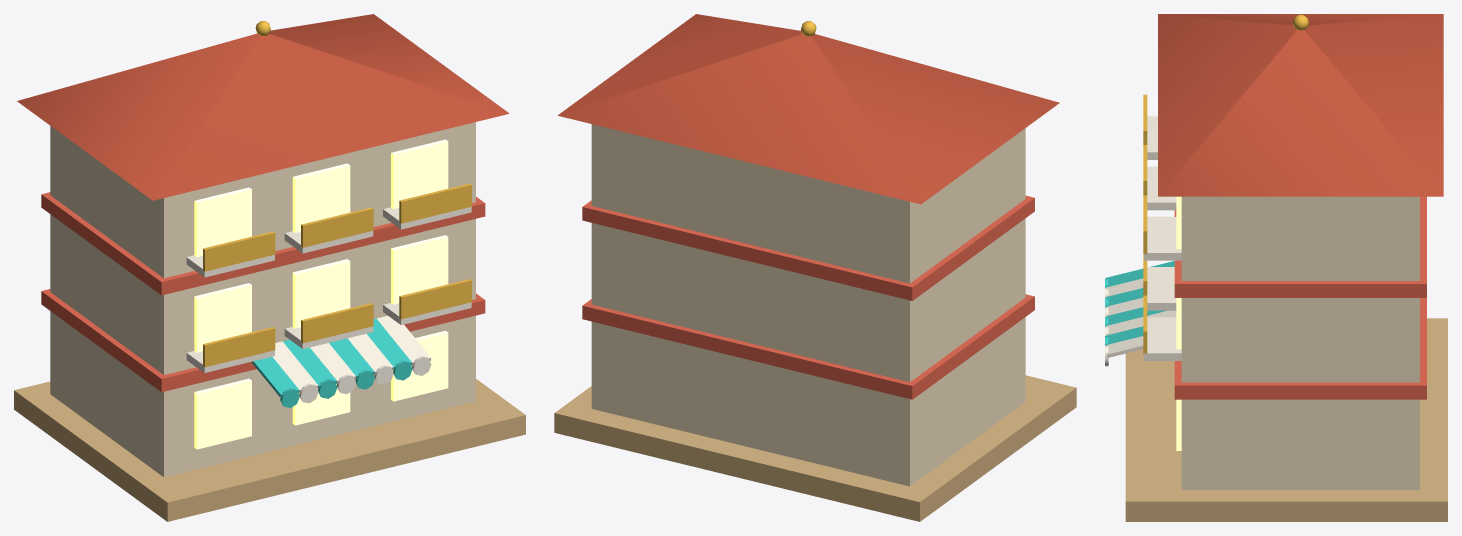
The model's file is harbor-hotel.glb.
The picture shows the model from 3 angles, left to right: view 1: azimuth 30°, elevation 25°; view 2: azimuth 150°, elevation 25°; view 3: azimuth 270°, elevation 25°; orthographic projection. The views are drawn at different scales.
Visible parts, largest first — view 1: Mesh_cream, Mesh_terracotta, Mesh_glowWarm, Mesh_sandStone, Mesh_gold, Mesh_coral, Mesh_warmWhite, Mesh_turquoise; view 2: Mesh_cream, Mesh_terracotta, Mesh_sandStone, Mesh_coral; view 3: Mesh_cream, Mesh_terracotta, Mesh_sandStone, Mesh_coral, Mesh_warmWhite, Mesh_turquoise, Mesh_gold, Mesh_glowWarm.
Part boxes in pixels (left/top/right/bottom): Mesh_cream: left=50, top=122, right=475, bottom=477; Mesh_terracotta: left=17, top=14, right=509, bottom=200; Mesh_glowWarm: left=194, top=139, right=448, bottom=449; Mesh_sandStone: left=14, top=379, right=525, bottom=521; Mesh_gold: left=203, top=21, right=471, bottom=367; Mesh_coral: left=41, top=192, right=485, bottom=392; Mesh_warmWhite: left=186, top=207, right=471, bottom=403; Mesh_turquoise: left=251, top=318, right=412, bottom=407; Mesh_cream: left=591, top=124, right=1025, bottom=486; Mesh_terracotta: left=557, top=14, right=1059, bottom=204; Mesh_sandStone: left=554, top=375, right=1076, bottom=521; Mesh_coral: left=582, top=195, right=1034, bottom=399; Mesh_cream: left=1181, top=196, right=1419, bottom=489; Mesh_terracotta: left=1158, top=14, right=1443, bottom=196; Mesh_sandStone: left=1125, top=318, right=1447, bottom=521; Mesh_coral: left=1174, top=196, right=1426, bottom=399; Mesh_warmWhite: left=1105, top=116, right=1181, bottom=366; Mesh_turquoise: left=1105, top=261, right=1174, bottom=345; Mesh_gold: left=1143, top=14, right=1308, bottom=354; Mesh_glowWarm: left=1176, top=196, right=1181, bottom=450.
Bounding box in the file's own units: 6.2 × 6.54 × 4.89.
